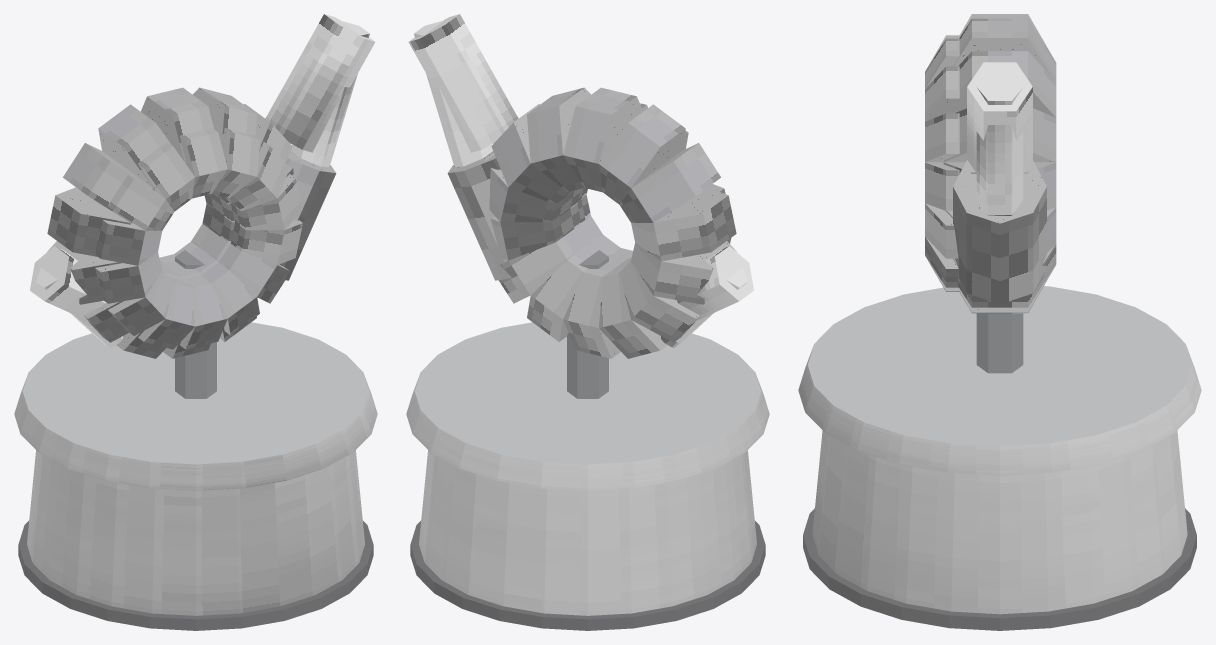
File: Building_SculptureSmall__C.glb
The picture shows the model from 3 angles, left to right: view 1: azimuth 30°, elevation 25°; view 2: azimuth 150°, elevation 25°; view 3: azimuth 270°, elevation 25°; orthographic projection. The views are drawn at different scales.
Parts seen in each view (by area): view 1: SculptureSmall__C; view 2: SculptureSmall__C; view 3: SculptureSmall__C.
Part boxes in pixels (x1,y1,x2,y2): SculptureSmall__C: (14, 14, 377, 630); SculptureSmall__C: (406, 14, 769, 630); SculptureSmall__C: (798, 14, 1201, 630).
Size of the model in its own units: 0.9038 by 1.31 by 0.86.
Materials: 1 (1 with a texture image).
